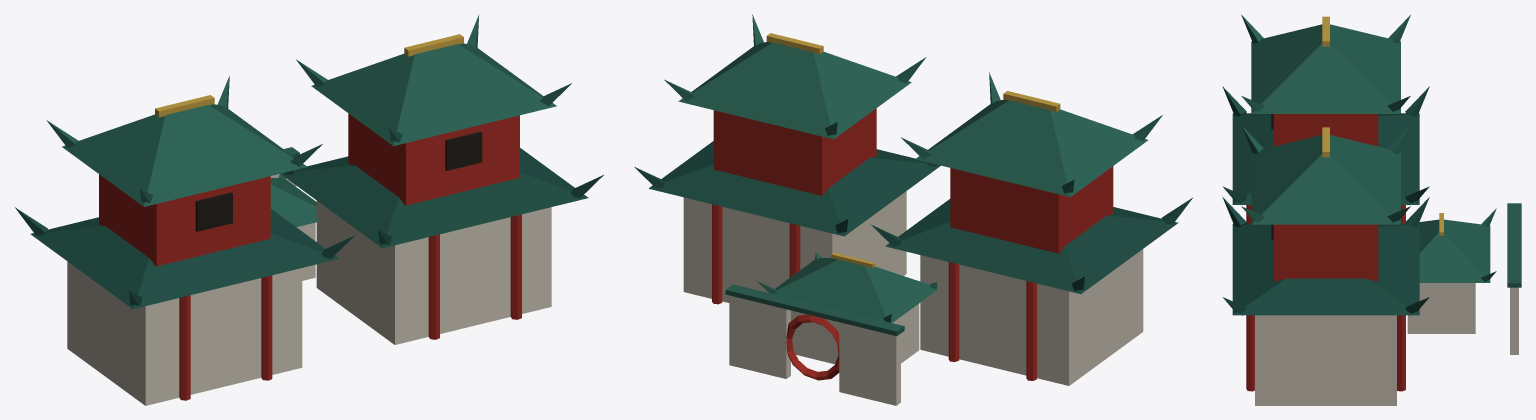
Rendered from dragon_row_broken.glb.
3 renders of one model, left to right at view 1: azimuth 30°, elevation 25°; view 2: azimuth 150°, elevation 25°; view 3: azimuth 270°, elevation 25°, orthographic. The views are drawn at different scales.
Parts seen in each view (by area): view 1: dragon_row_piece7, dragon_row_piece8, dragon_row_piece1, dragon_row_piece6, dragon_row_piece3, dragon_row_piece5, dragon_row_piece4, dragon_row_piece12, dragon_row_piece9, dragon_row_piece2, dragon_row_piece10, dragon_row_piece11 (+1 smaller); view 2: dragon_row_piece6, dragon_row_piece2, dragon_row_piece11, dragon_row_piece13, dragon_row_piece3, dragon_row_piece4, dragon_row_piece7, dragon_row_piece10, dragon_row_piece1, dragon_row_piece5, dragon_row_piece8, dragon_row_piece0 (+1 smaller); view 3: dragon_row_piece13, dragon_row_piece8, dragon_row_piece11, dragon_row_piece3, dragon_row_piece4, dragon_row_piece9, dragon_row_piece7, dragon_row_piece2, dragon_row_piece6, dragon_row_piece10, dragon_row_piece1, dragon_row_piece5 (+2 smaller).
Part boxes in pixels (x1,y1,x2,y2): dragon_row_piece7: (318, 75, 530, 344); dragon_row_piece8: (340, 71, 603, 333); dragon_row_piece1: (108, 247, 331, 405); dragon_row_piece6: (15, 117, 159, 378); dragon_row_piece3: (147, 95, 250, 260); dragon_row_piece5: (176, 80, 411, 277); dragon_row_piece4: (230, 34, 485, 222); dragon_row_piece12: (222, 240, 326, 386); dragon_row_piece9: (321, 50, 544, 304); dragon_row_piece2: (272, 43, 473, 270); dragon_row_piece10: (217, 76, 351, 288); dragon_row_piece11: (270, 174, 320, 289); dragon_row_piece6: (952, 115, 1162, 385); dragon_row_piece2: (737, 53, 892, 292); dragon_row_piece11: (766, 237, 918, 405); dragon_row_piece13: (670, 58, 775, 374); dragon_row_piece3: (906, 91, 1141, 361); dragon_row_piece4: (739, 33, 1004, 211); dragon_row_piece7: (850, 57, 940, 275); dragon_row_piece10: (817, 120, 974, 351); dragon_row_piece1: (1108, 197, 1192, 357); dragon_row_piece5: (841, 59, 1000, 256); dragon_row_piece8: (705, 14, 882, 268); dragon_row_piece0: (634, 79, 728, 294); dragon_row_piece13: (1317, 173, 1521, 405); dragon_row_piece8: (1222, 171, 1329, 405); dragon_row_piece11: (1407, 196, 1521, 333); dragon_row_piece3: (1251, 16, 1419, 223); dragon_row_piece4: (1264, 66, 1380, 194); dragon_row_piece9: (1291, 141, 1334, 358); dragon_row_piece7: (1222, 125, 1298, 286); dragon_row_piece2: (1329, 125, 1435, 405); dragon_row_piece6: (1241, 14, 1429, 173); dragon_row_piece10: (1326, 78, 1420, 233); dragon_row_piece1: (1222, 86, 1273, 208); dragon_row_piece5: (1232, 67, 1301, 184).
Bounding box in the file's own units: 6.68 × 3.42 × 4.01.
